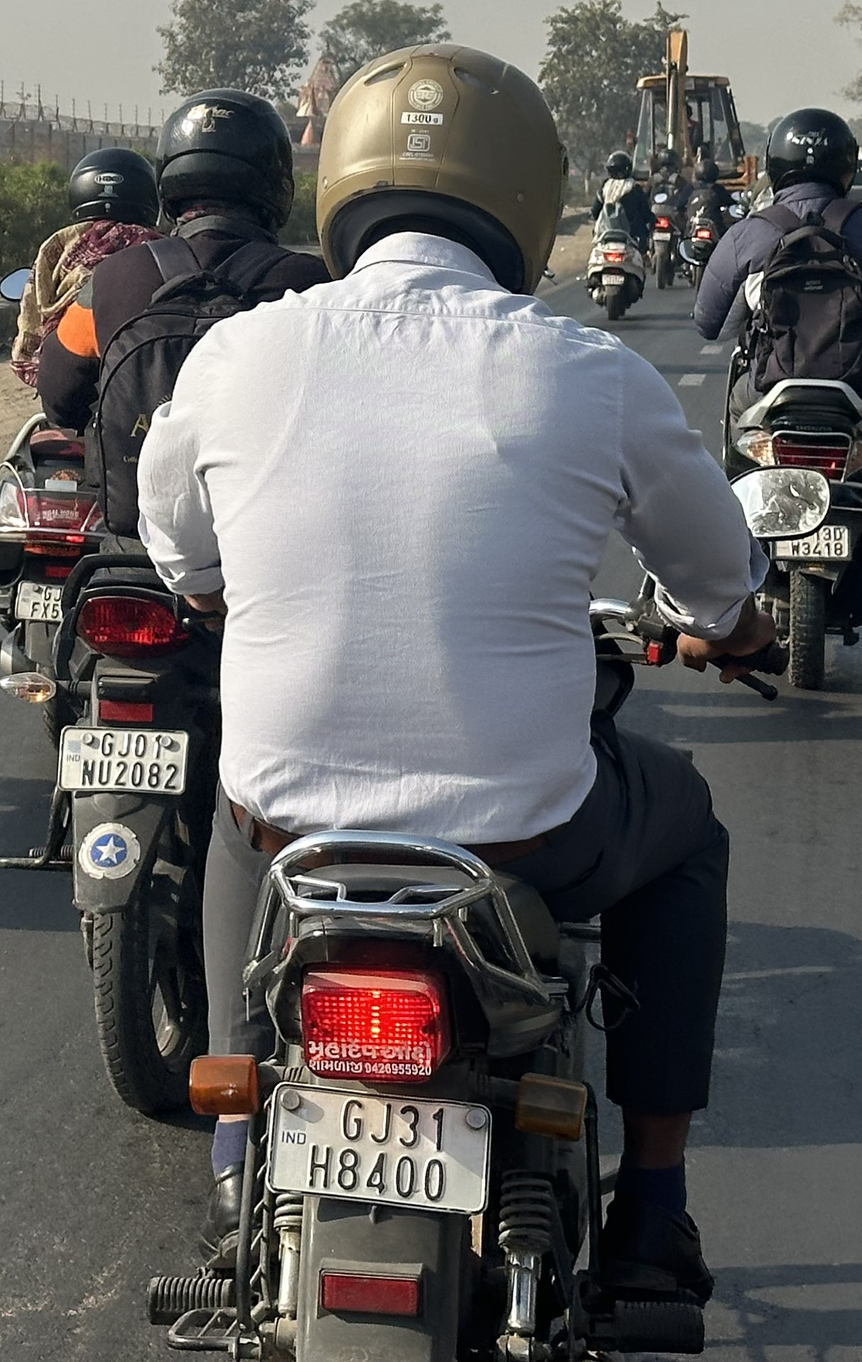BikeWithRider: (123, 35, 773, 1362), (50, 73, 329, 1124), (680, 88, 862, 699), (0, 133, 176, 715), (580, 143, 657, 318), (676, 157, 736, 293), (642, 145, 690, 292)
Helmet: (301, 37, 575, 316), (145, 84, 297, 231), (58, 138, 158, 238), (768, 98, 862, 196), (602, 148, 636, 184), (692, 158, 722, 186), (654, 145, 681, 169)
